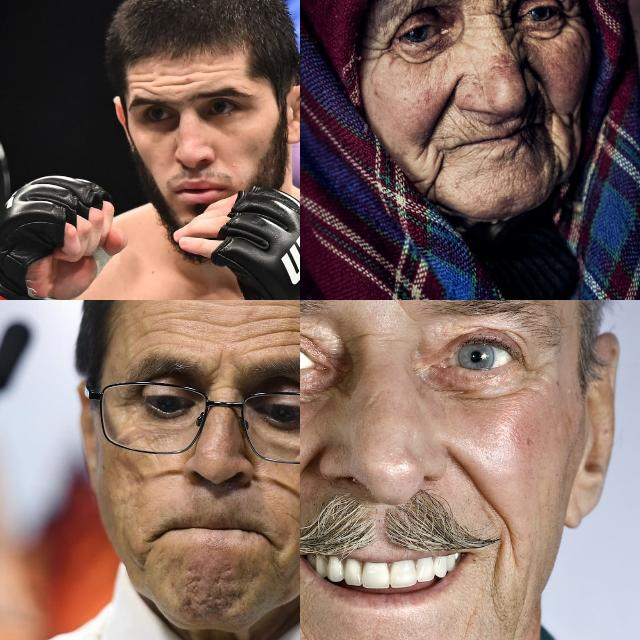bunny_line: (501, 27, 529, 65)
chin: (182, 574, 232, 610)
crows_feet: (519, 336, 545, 389), (368, 37, 400, 67), (560, 3, 584, 42)
forehead: (136, 304, 208, 350), (218, 306, 266, 350), (273, 305, 300, 356), (168, 66, 196, 94), (129, 69, 159, 95), (205, 62, 241, 76)
frown_line: (203, 356, 223, 388), (348, 326, 372, 346), (473, 0, 506, 9), (390, 300, 405, 310)
gummy_smile: (447, 451, 505, 521), (418, 91, 462, 140), (300, 451, 318, 480)
masseter: (556, 112, 582, 176)
sad_smile: (490, 542, 508, 598), (422, 154, 444, 198)
smoker_lines: (469, 112, 506, 134)
